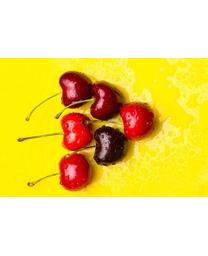cherry: (94, 126, 128, 166), (120, 103, 156, 140), (58, 72, 94, 108), (89, 83, 123, 120), (59, 153, 91, 191), (61, 112, 92, 149)
